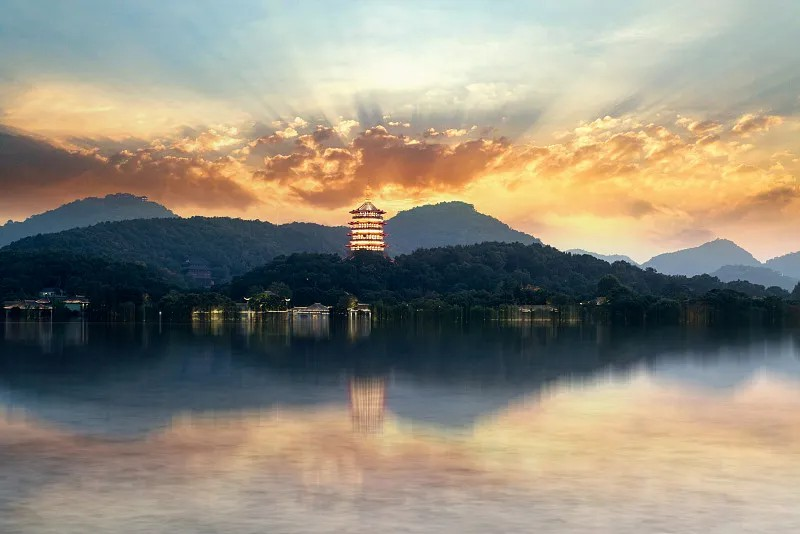Leifeng: (346, 192, 392, 258)
